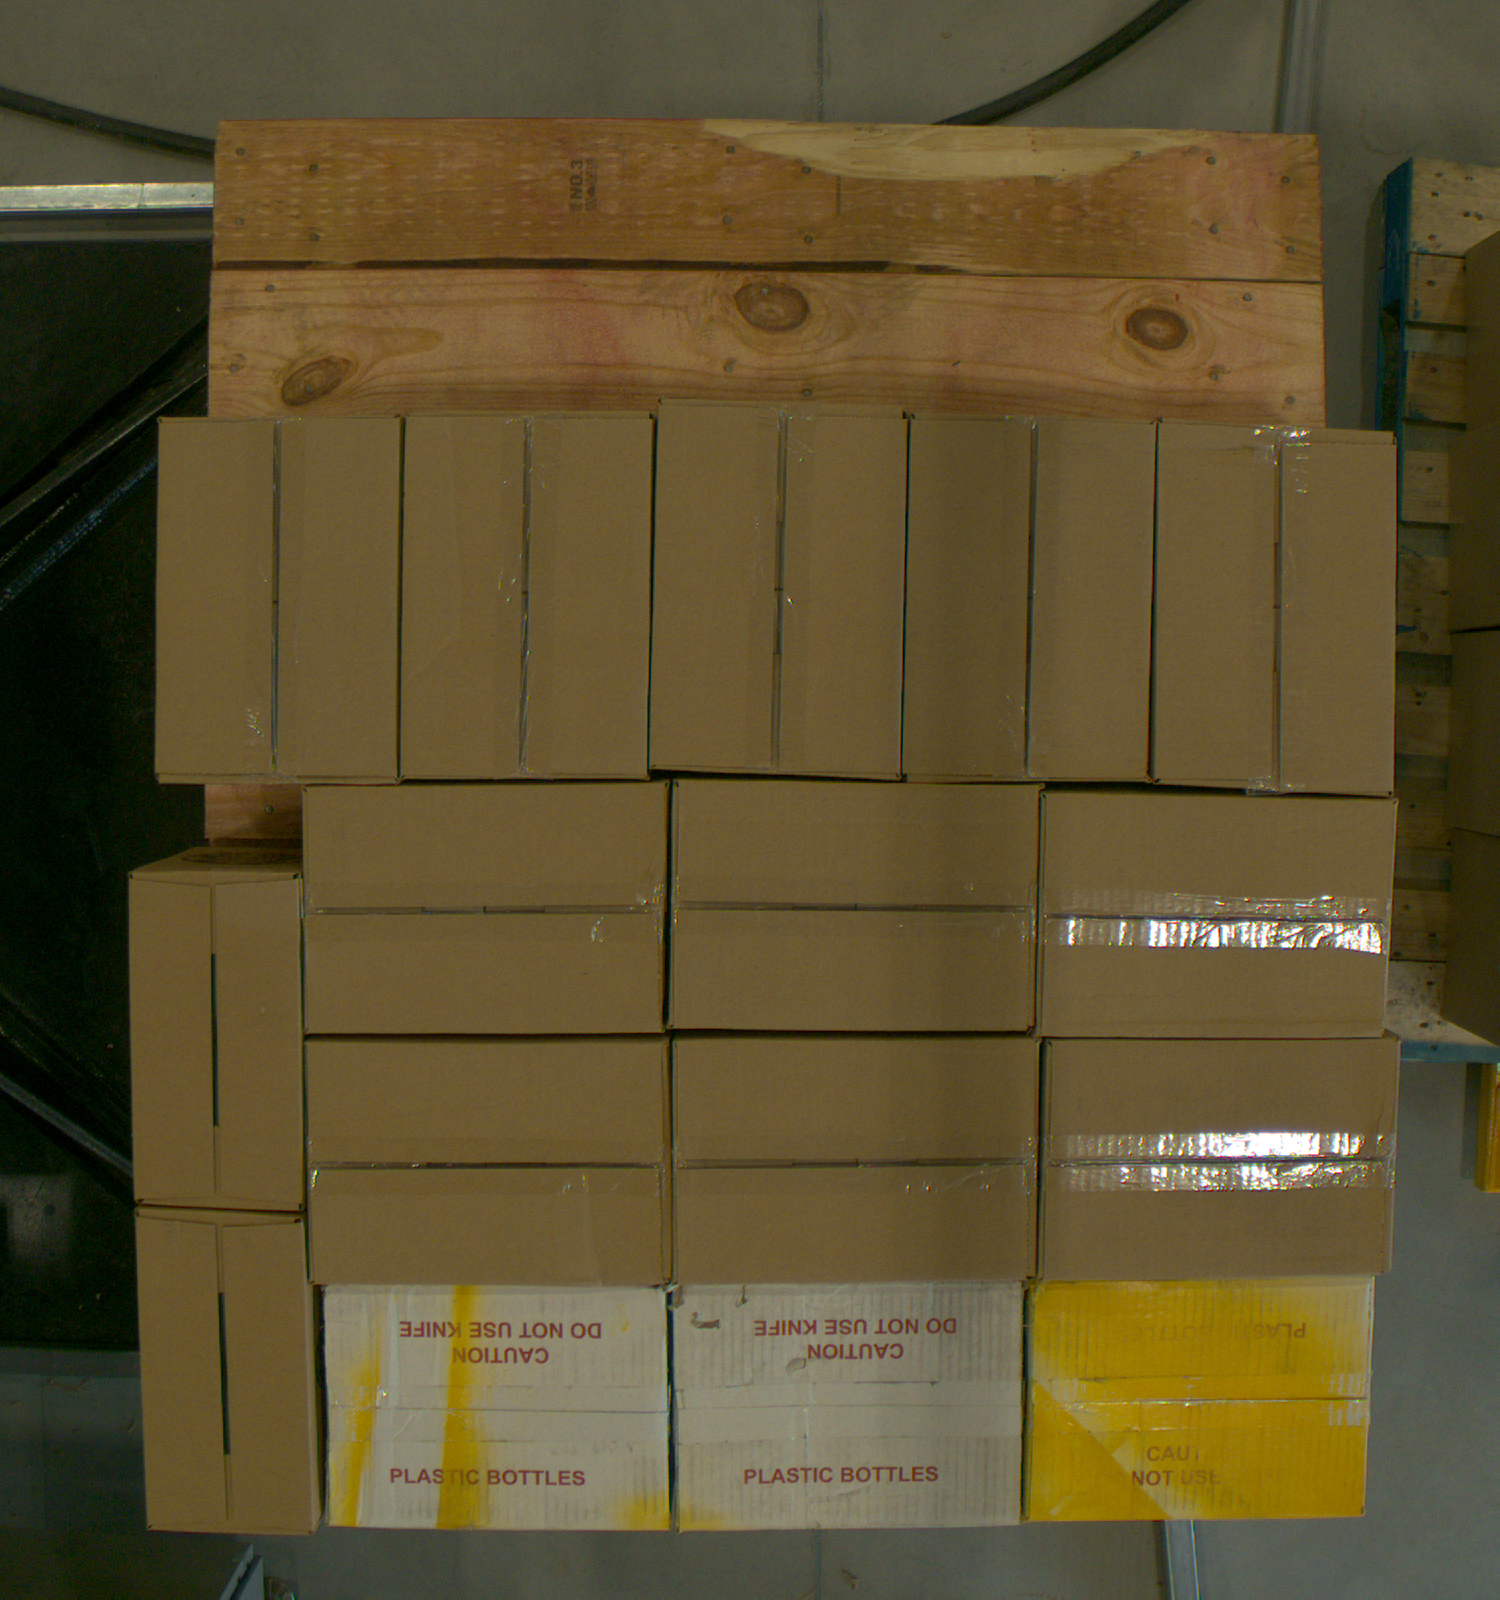box top: (654, 403, 905, 775), (1155, 419, 1396, 795), (672, 782, 1036, 1030), (362, 726, 608, 1093), (405, 414, 650, 778), (846, 478, 1212, 720), (734, 978, 977, 1343), (1036, 795, 1398, 1038), (1040, 1039, 1401, 1281), (368, 983, 609, 1343), (159, 419, 398, 782), (726, 1231, 971, 1582), (1026, 1279, 1375, 1522), (376, 1236, 617, 1580), (130, 874, 303, 1211), (137, 1210, 314, 1537)
